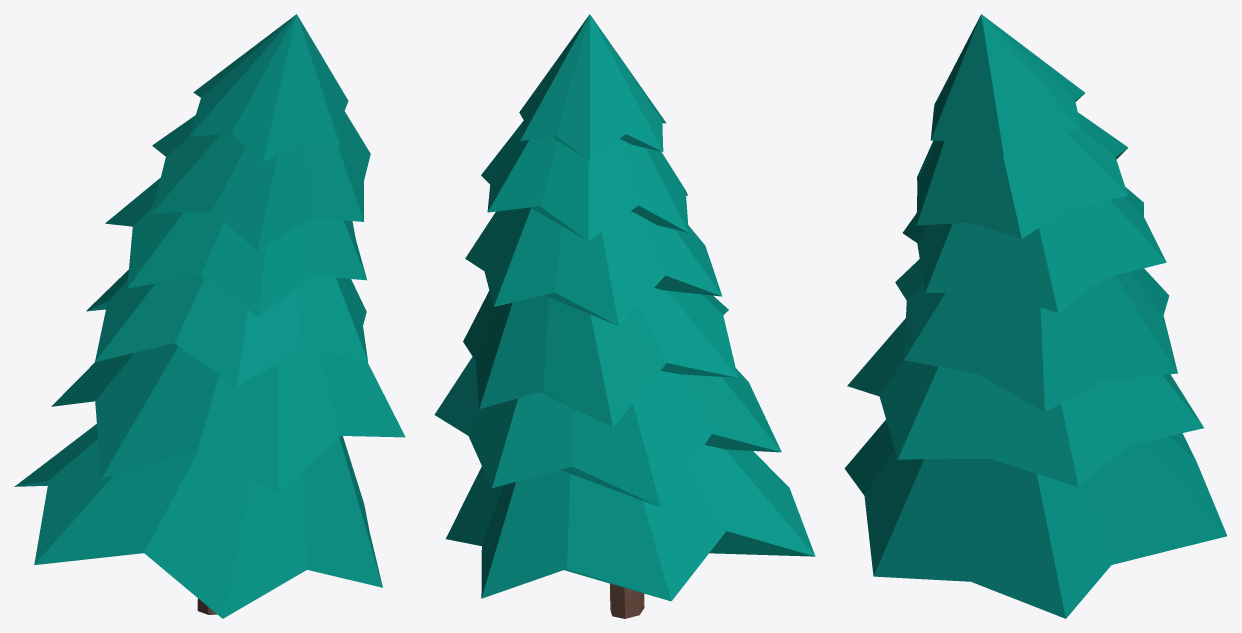
3 views of the same model, side by side, from view 1: azimuth 30°, elevation 25°; view 2: azimuth 150°, elevation 25°; view 3: azimuth 270°, elevation 25° (orthographic). The views are drawn at different scales.
Parts seen in each view (by area): view 1: mesh_1522709171, mesh_1183253516, mesh_2056390452, mesh_2025486139, mesh_307658984, mesh_1921749139; view 2: mesh_1522709171, mesh_1183253516, mesh_2056390452, mesh_307658984, mesh_2025486139, mesh_1921749139, group_1745499001; view 3: mesh_1522709171, mesh_1183253516, mesh_2056390452, mesh_307658984, mesh_2025486139, mesh_1921749139.
Part boxes in pixels (x1,y1,x2,y2): mesh_1522709171: [14, 424, 382, 618]; mesh_1183253516: [51, 343, 405, 493]; mesh_2056390452: [86, 269, 367, 387]; mesh_2025486139: [151, 111, 370, 251]; mesh_307658984: [105, 178, 366, 316]; mesh_1921749139: [189, 14, 348, 162]; mesh_1522709171: [446, 445, 815, 601]; mesh_1183253516: [434, 357, 781, 507]; mesh_2056390452: [463, 287, 737, 427]; mesh_307658984: [465, 207, 722, 325]; mesh_2025486139: [481, 121, 688, 240]; mesh_1921749139: [519, 14, 666, 160]; group_1745499001: [610, 583, 644, 618]; mesh_1522709171: [844, 420, 1227, 618]; mesh_1183253516: [847, 318, 1203, 486]; mesh_2056390452: [895, 259, 1177, 411]; mesh_307658984: [903, 187, 1166, 312]; mesh_2025486139: [916, 112, 1128, 238]; mesh_1921749139: [930, 14, 1084, 155].
Size of the model in its own units: 33.92 by 53.15 by 30.62.
